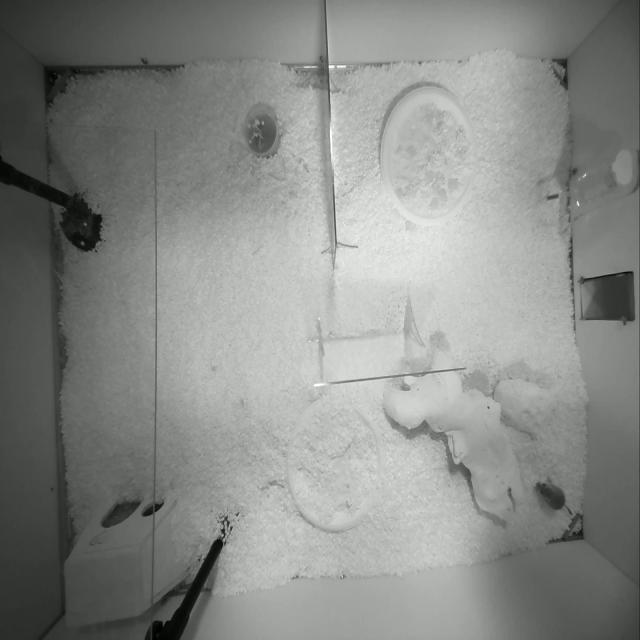pup_fluffy: (536, 478, 572, 515)
